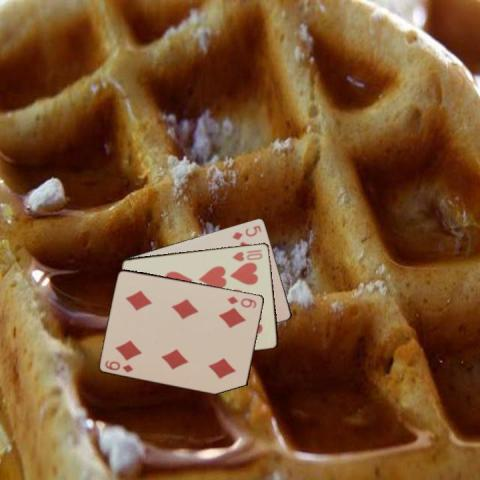10h: (229, 246, 264, 262)
5d: (228, 222, 262, 241)
6d: (102, 357, 135, 374), (225, 294, 258, 310)
